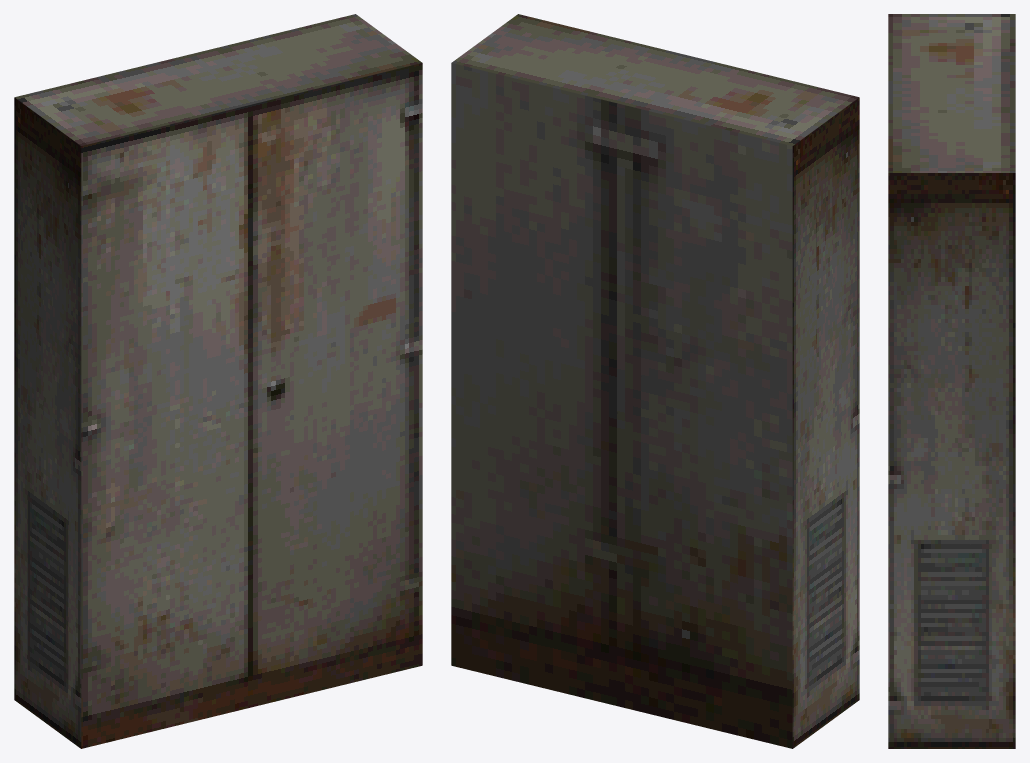
Rendered from metal_cabinet_2.glb.
3 renders of one model, left to right at view 1: azimuth 30°, elevation 25°; view 2: azimuth 150°, elevation 25°; view 3: azimuth 270°, elevation 25°, orthographic. The views are drawn at different scales.
Parts seen in each view (by area): view 1: Metal_cabinet_2; view 2: Metal_cabinet_2; view 3: Metal_cabinet_2.
Boxes of the visible parts, left/top/right/bottom form: Metal_cabinet_2: left=14, top=14, right=422, bottom=748; Metal_cabinet_2: left=451, top=14, right=859, bottom=748; Metal_cabinet_2: left=888, top=14, right=1015, bottom=748.
Bounding box in the file's own units: 1.18 × 1.99 × 0.3996.
Materials: 1 (1 with a texture image).
